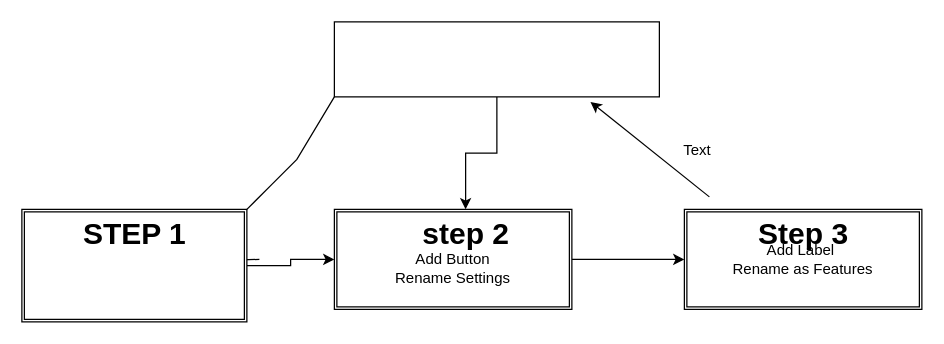
Image size: 944x344. Some labels were removed from this diagram. Each missing label, with the box of its shape:
Settings Specification: (333, 21, 659, 97)
Visual Studios Load Toolbox: (21, 208, 247, 322)
